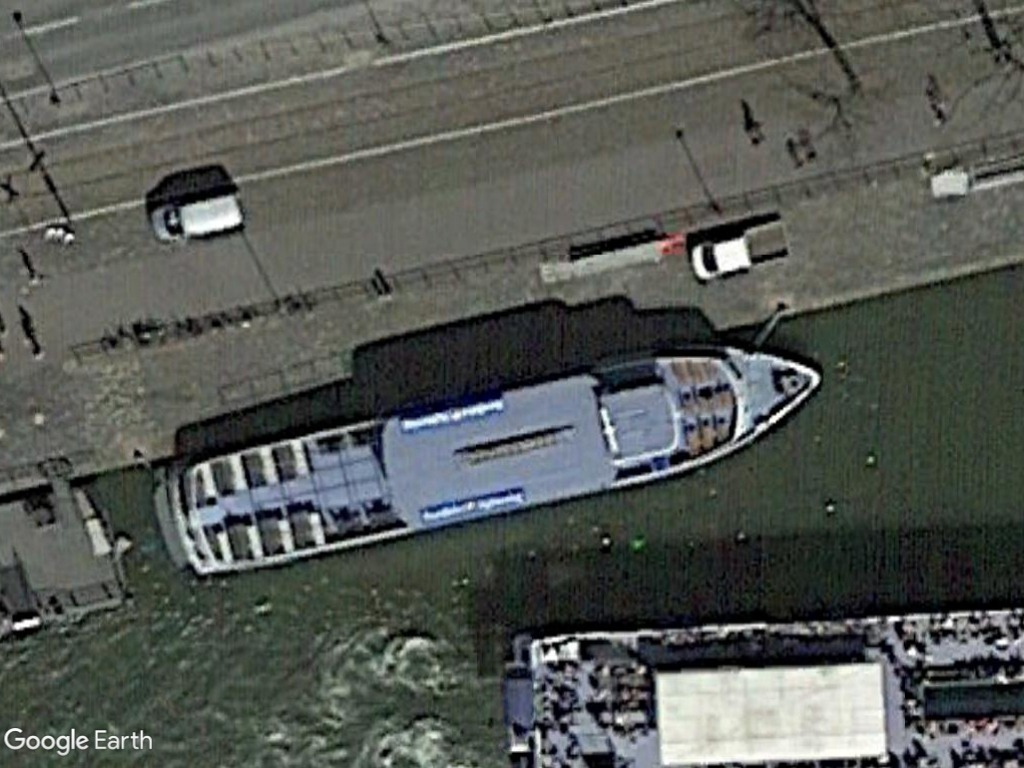boat: (148, 323, 833, 589)
van: (146, 186, 248, 251)
